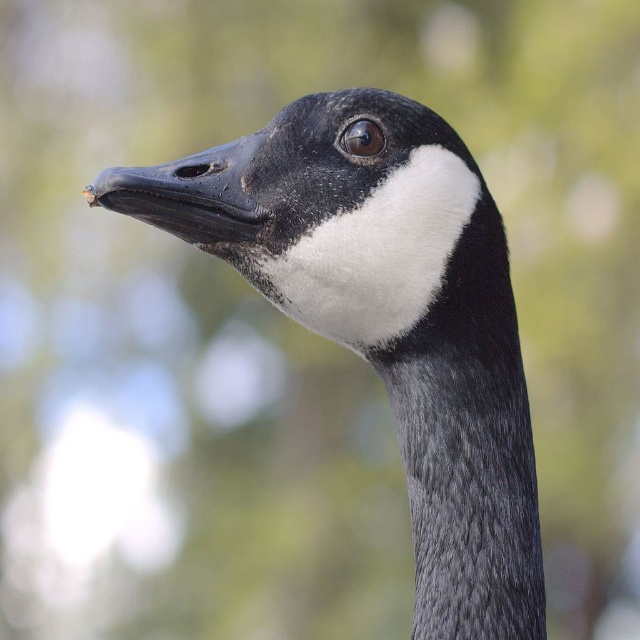Goose: (86, 89, 549, 639)
